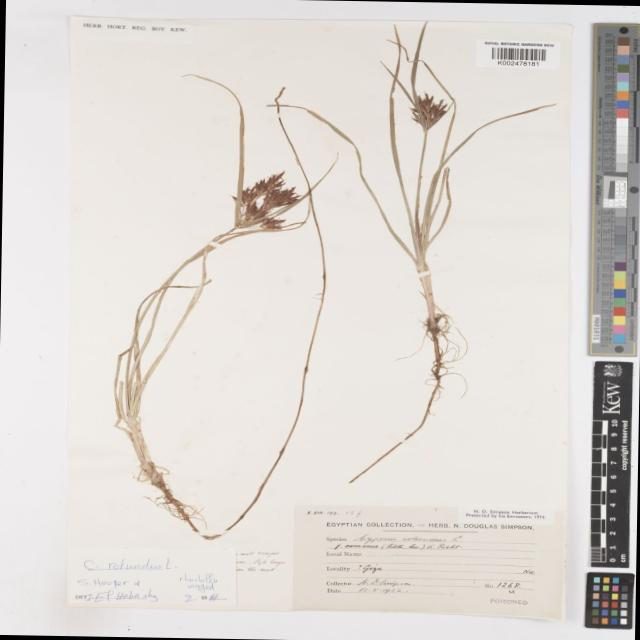cyperus: (220, 172, 312, 232), (403, 90, 458, 134)
